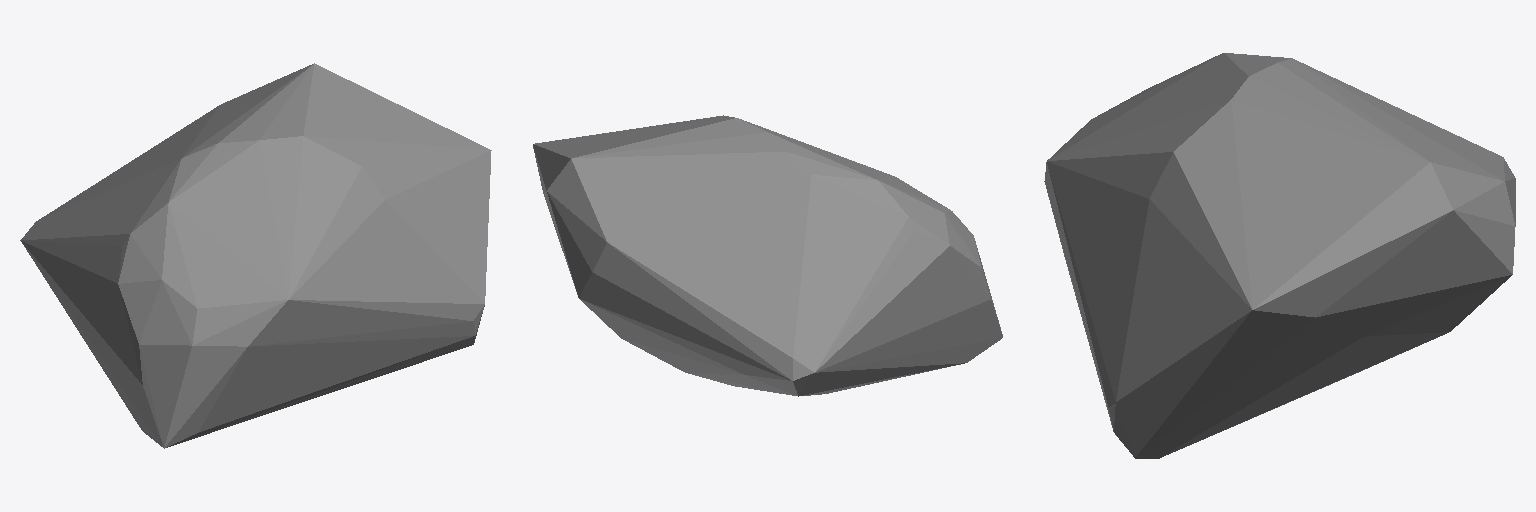
robot.urdf — 70_107:
<?xml version="1.0"?>
<robot name="70_107">
  <link name="link">
    <contact>
      <lateral_friction value="0.6"/>
    </contact>
    <inertial>
      <origin xyz="-0.009051315575897083 -0.0003981782804749102 0.0008740025807644726" rpy="0 0 0"/>
      <mass value = "0.3845058306663048"/>
      <inertia ixx="0.00015660707168289832" ixy="1.6633132562186534e-05" ixz="-7.218545559808878e-06" iyy="0.00023940938782998614" iyz="6.588799301524863e-06" izz="0.0002741358305650975" />
    </inertial>
    <visual name="visual">
      <geometry>
        <mesh filename="70_107.obj"/>
      </geometry>
      <material name="material">
        <color rgba="0.5913623829427035 0.5913623829427035 0.5913623829427035 1.0"/>
      </material>
    </visual>
    <collision name="collision">
      <geometry>
        <mesh filename="70_107.obj"/>
      </geometry>
    </collision>
  </link>
</robot>

--- What the picture shows (computed from the rendered views, not written in the file) ---
The picture shows the robot from 3 angles, left to right: view 1: azimuth 30°, elevation 25°; view 2: azimuth 150°, elevation 25°; view 3: azimuth 270°, elevation 25°; orthographic projection.
Model 70_107 with 1 links and 0 joints (none), rooted at link, posed all joints at 0.
Visible links, largest first — view 1: link; view 2: link; view 3: link.
Link boxes in pixels (x1=…): link: x1=20, y1=63, x2=491, y2=448; link: x1=533, y1=115, x2=1002, y2=396; link: x1=1044, y1=53, x2=1515, y2=458.
Bounding box of the posed robot: 0.1095 × 0.086 × 0.0577 m (x, y, z).
1 mesh visuals loaded from 1 distinct referenced files (1 OBJ).
